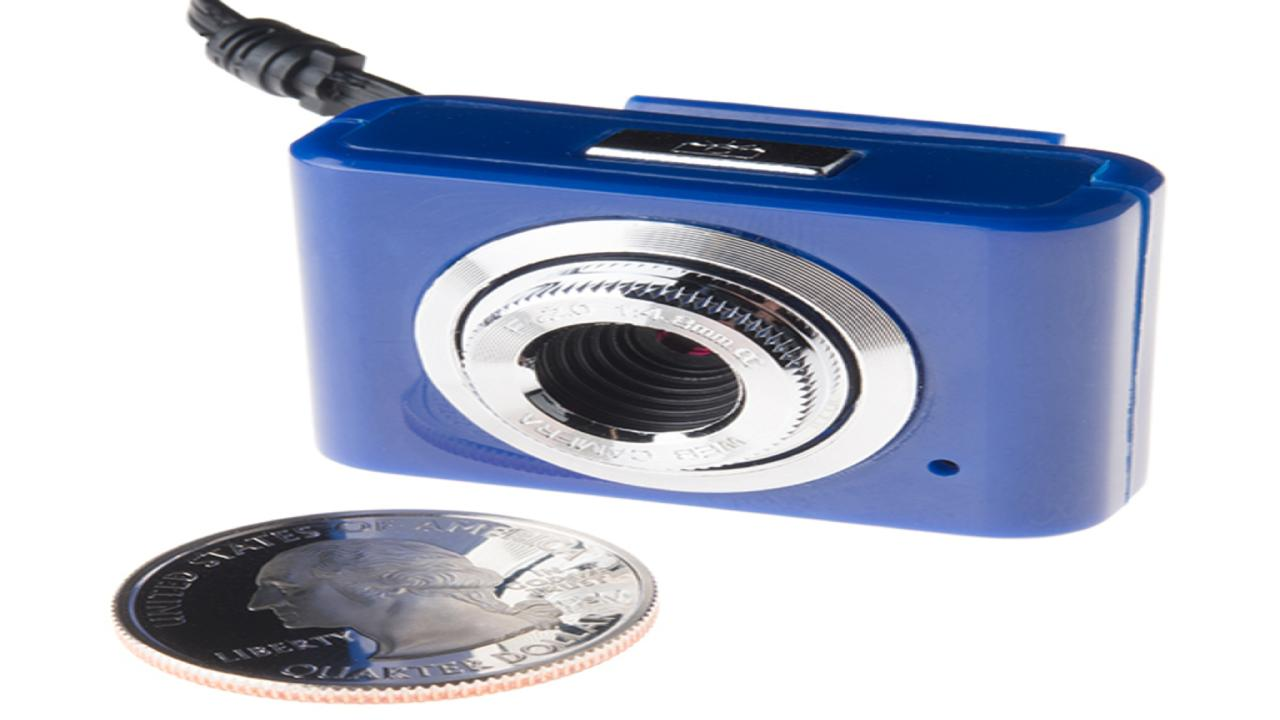coin: (106, 506, 664, 705)
